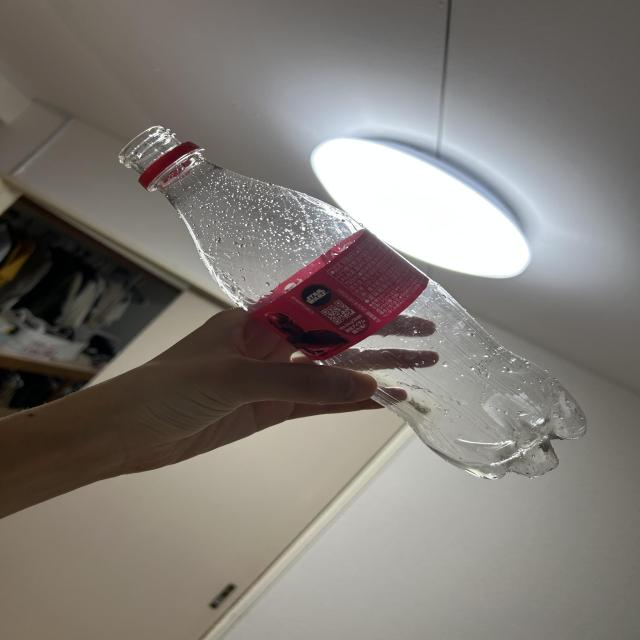empty: (119, 126, 585, 479)
